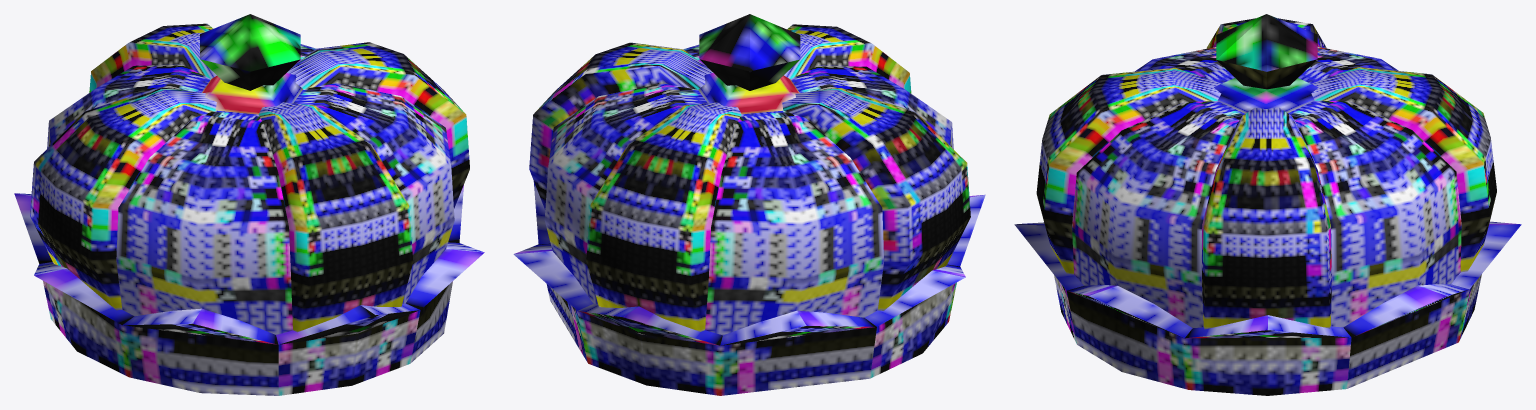
The model's file is hat_crown_model.glb.
The picture shows the model from 3 angles, left to right: view 1: azimuth 30°, elevation 25°; view 2: azimuth 150°, elevation 25°; view 3: azimuth 270°, elevation 25°; orthographic projection.
Visible parts, largest first — view 1: hat_crown_model; view 2: hat_crown_model; view 3: hat_crown_model.
Boxes of the visible parts, x1,y1,x2,y2 form: hat_crown_model: (14, 14, 484, 395); hat_crown_model: (513, 14, 985, 395); hat_crown_model: (1014, 14, 1521, 395).
Bounding box in the file's own units: 80.4 × 52.88 × 81.47.
Materials: 1 (1 with a texture image).
